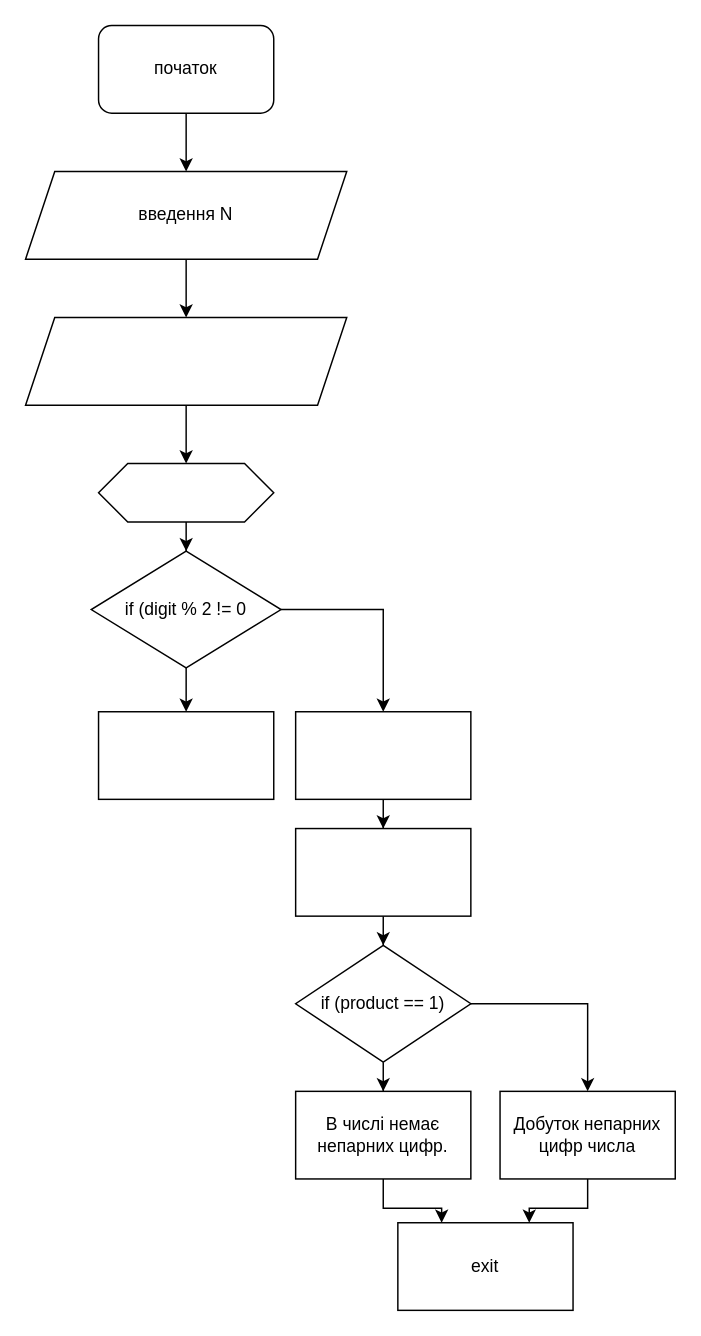
Image size: 701x1336. Some labels were removed from this diagram. The shapes that lost their labels are listed below. From the top down, each one's centre as x and y in pixels, then its label:
the point at 185,360: Ініціалізація змінної "product" зі значенням 1
the point at 185,492: While N>0
the point at 382,754: product *= digit
the point at 382,871: N /= 10
